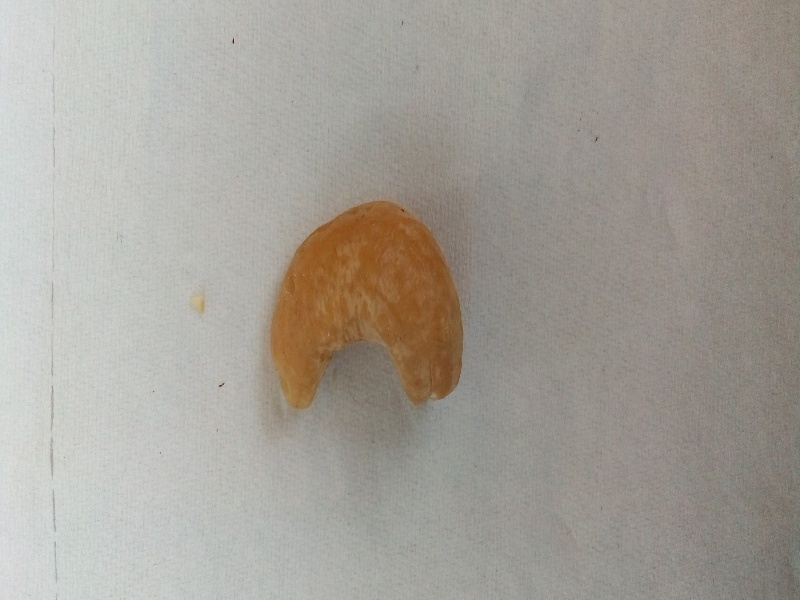cashew: (250, 193, 500, 430)
